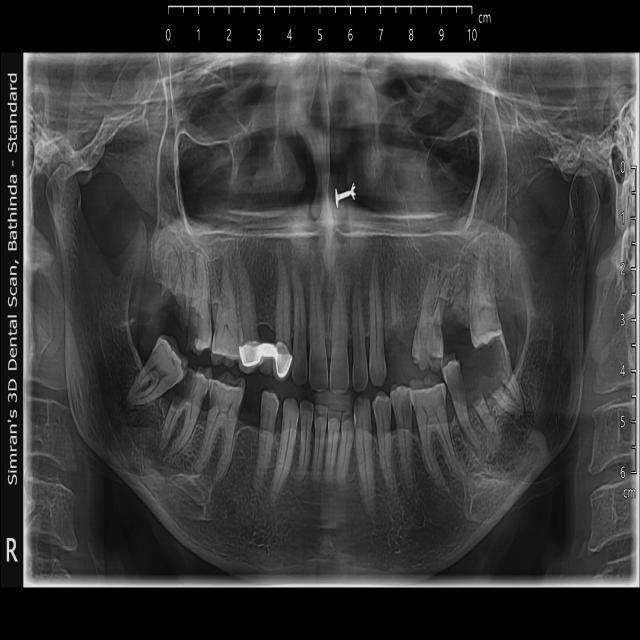Caries: (408, 324, 444, 375), (171, 370, 195, 410), (186, 300, 200, 348), (392, 385, 411, 417), (208, 390, 216, 412)
Crown: (241, 341, 264, 369), (273, 342, 291, 376), (259, 342, 276, 371)
Mandibular Canal: (89, 338, 213, 520), (445, 340, 564, 528)
Missing teeth: (441, 304, 472, 356), (236, 393, 262, 429)
Periapical lesion: (425, 248, 445, 286), (460, 424, 477, 456)
Root Piece: (499, 345, 523, 416), (384, 264, 405, 341), (162, 245, 186, 311), (494, 376, 527, 419), (474, 387, 498, 438)
maxillary sinus: (157, 76, 290, 259), (375, 92, 509, 273)
